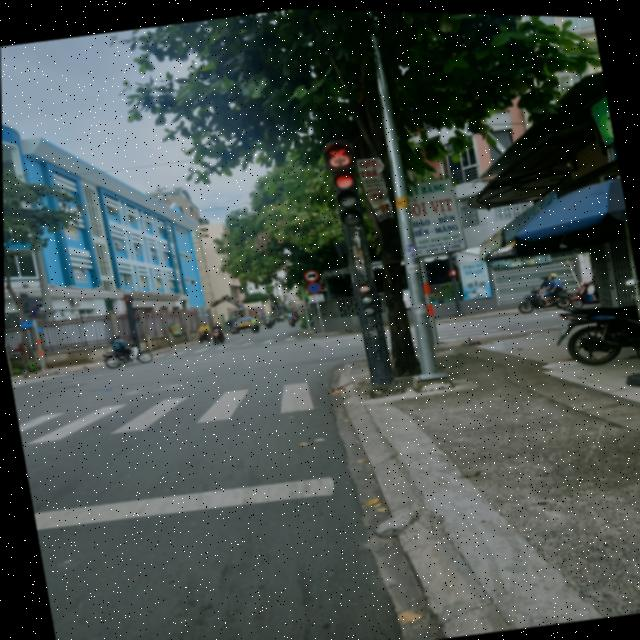Red: (328, 161, 366, 232)
